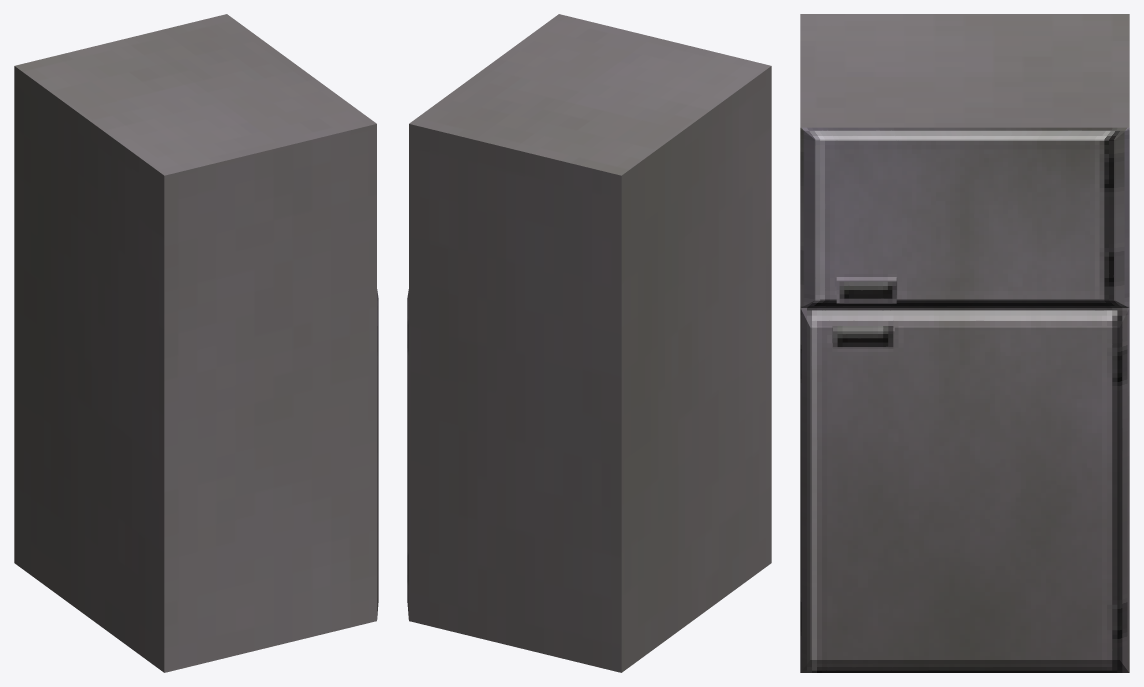
The model's file is Fridge.fbx.
The picture shows the model from 3 angles, left to right: view 1: azimuth 30°, elevation 25°; view 2: azimuth 150°, elevation 25°; view 3: azimuth 270°, elevation 25°; orthographic projection. The views are drawn at different scales.
Parts seen in each view (by area): view 1: Cube; view 2: Cube; view 3: Cube.
Boxes of the visible parts, x1=… form: Cube: x1=14, y1=14, x2=378, y2=672; Cube: x1=407, y1=14, x2=771, y2=672; Cube: x1=800, y1=14, x2=1129, y2=672.
Size of the model in its own units: 173 by 366 by 200.
